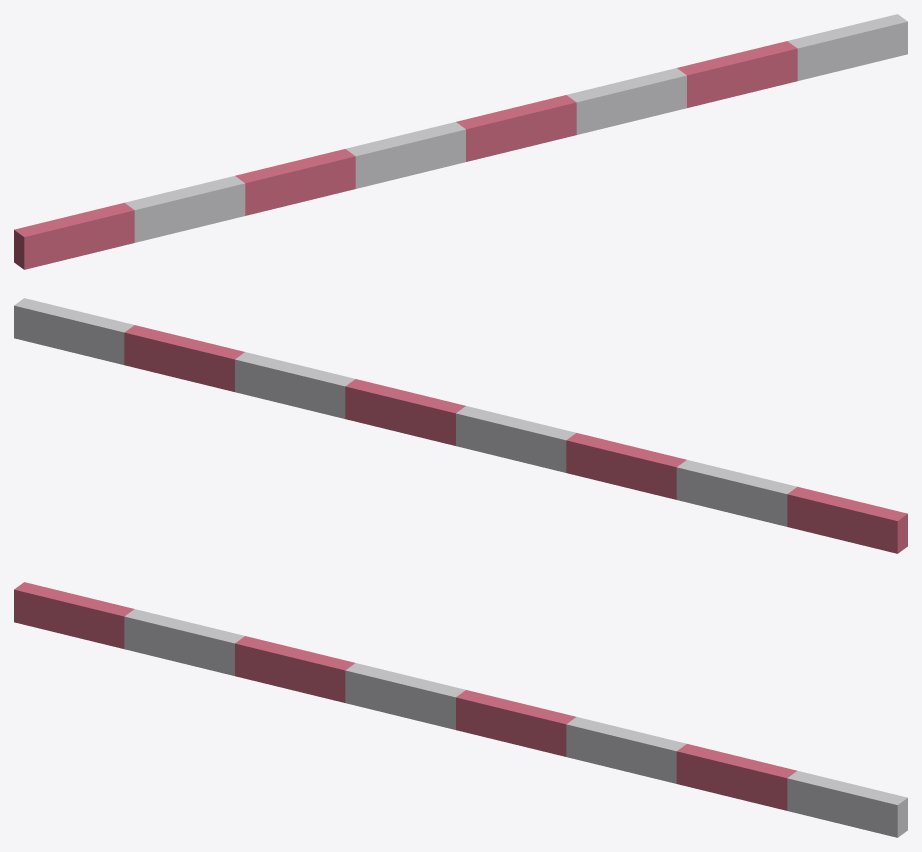
File: gate_arm_2.glb
3 views of the same model, one above another, from view 1: azimuth 30°, elevation 25°; view 2: azimuth 150°, elevation 25°; view 3: azimuth 330°, elevation 25° (orthographic).
Parts seen in each view (by area): view 1: gate_arm; view 2: gate_arm; view 3: gate_arm.
Part boxes in pixels (bbox=[...]): gate_arm: bbox=[14, 14, 907, 269]; gate_arm: bbox=[14, 298, 907, 553]; gate_arm: bbox=[14, 582, 907, 837].
Size of the model in its own units: 9.9 by 0.35 by 0.2.
